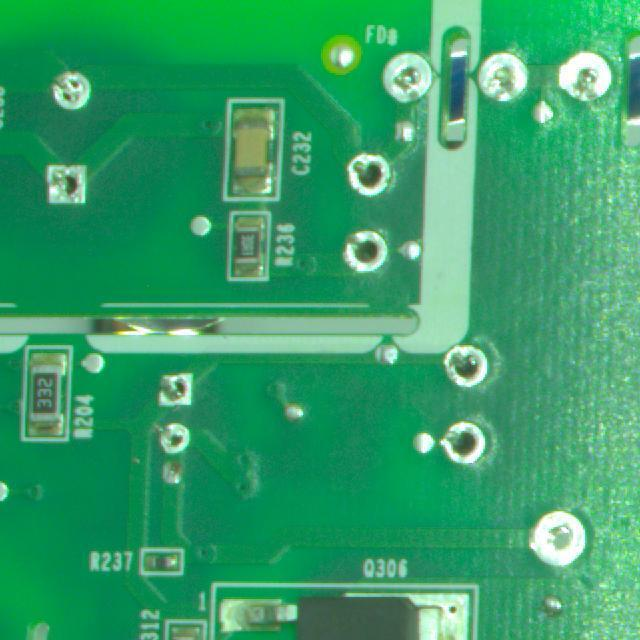Insufficient solder: (553, 49, 617, 111), (380, 50, 442, 113), (532, 506, 591, 567), (478, 50, 533, 105), (439, 341, 494, 393), (344, 146, 396, 200), (439, 418, 495, 468), (340, 224, 389, 277), (41, 161, 92, 209), (48, 65, 94, 118), (160, 371, 195, 405), (160, 419, 189, 456)
